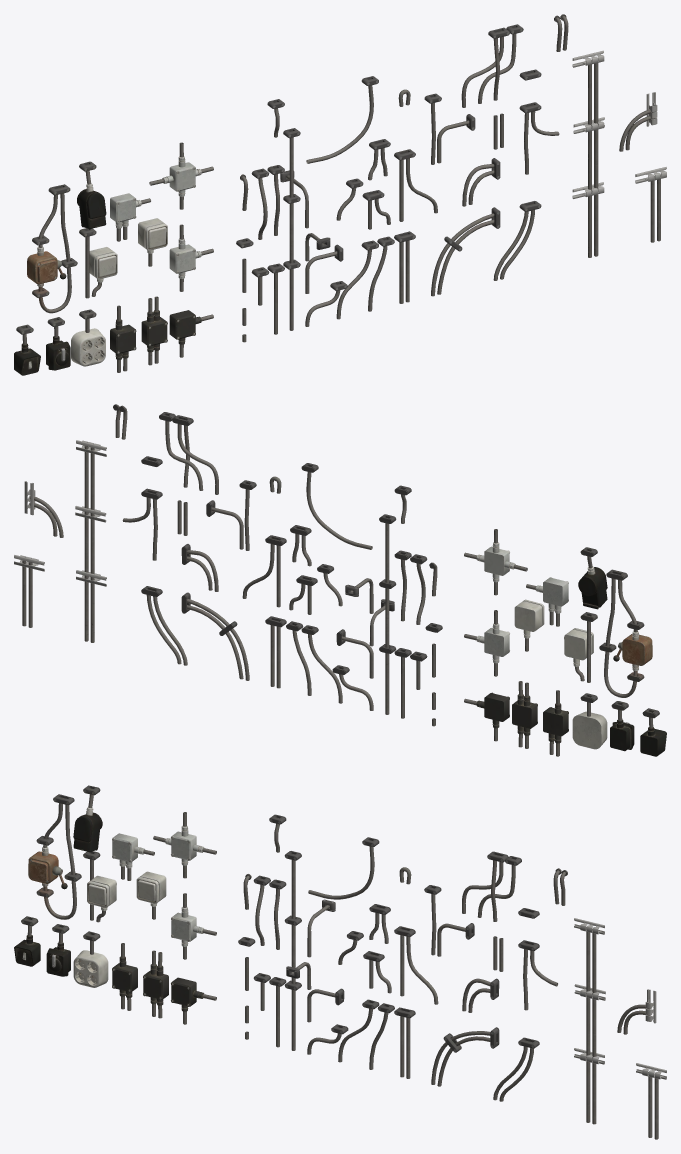
The model's file is modular_electric_cables.glb.
3 renders of one model, top to bottom at view 1: azimuth 30°, elevation 25°; view 2: azimuth 150°, elevation 25°; view 3: azimuth 330°, elevation 25°, orthographic.
Parts seen in each view (by area): view 1: cable_straight_medium, cable_box_3way; view 2: cable_straight_medium, cable_box_3way; view 3: cable_straight_medium, cable_box_3way.
Part boxes in pixels (left/top/right/bottom): cable_straight_medium: left=236, top=14, right=666, bottom=342; cable_box_3way: left=14, top=142, right=213, bottom=375; cable_straight_medium: left=14, top=404, right=442, bottom=726; cable_box_3way: left=464, top=529, right=666, bottom=756; cable_straight_medium: left=238, top=814, right=666, bottom=1139; cable_box_3way: left=14, top=785, right=216, bottom=1024.
Bounding box in the file's own units: 2.08 × 0.7572 × 0.2146.
Materials: 2 (2 with a texture image).
